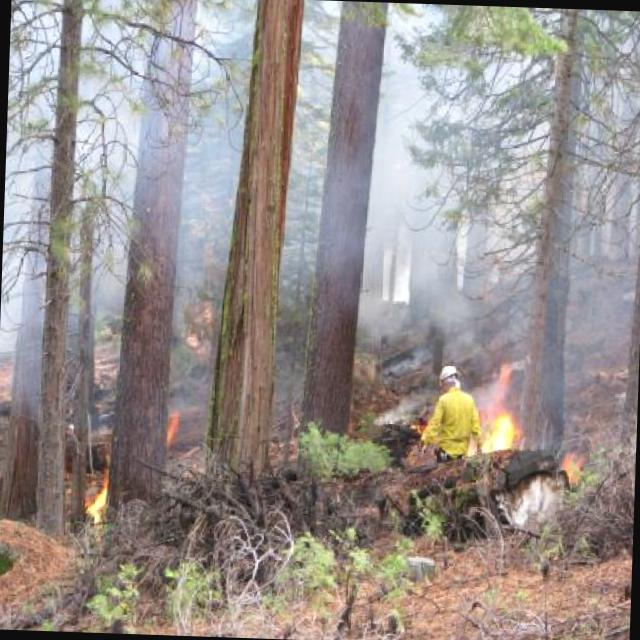Person: (426, 364, 487, 474)
